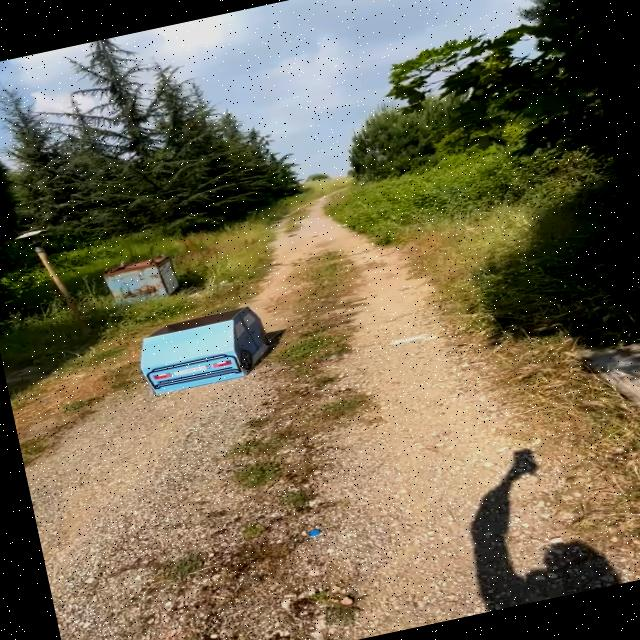blue_car: (108, 286, 298, 424)
